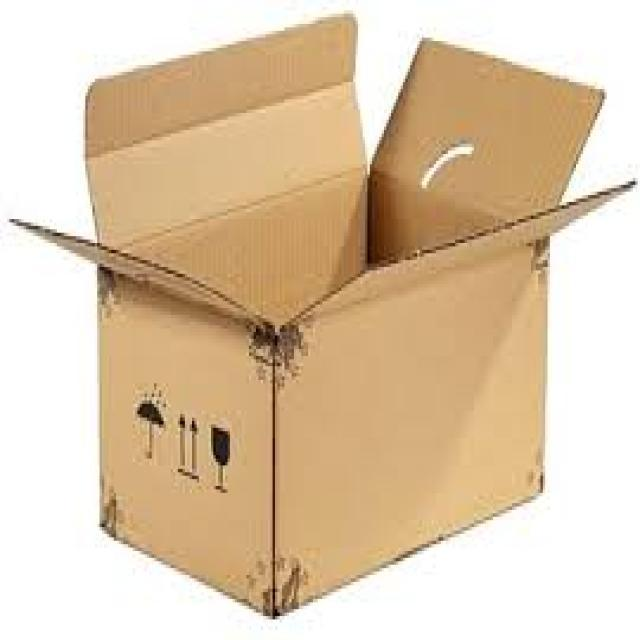Cardboard: (5, 8, 638, 621)
